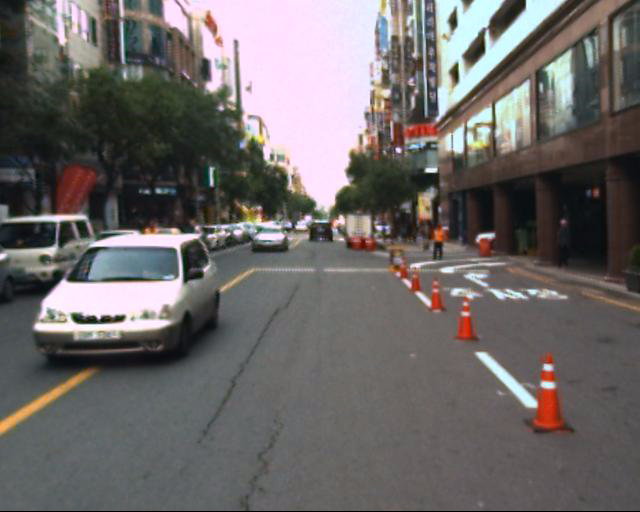person: (133, 211, 167, 284), (550, 216, 580, 278), (427, 222, 456, 269)
